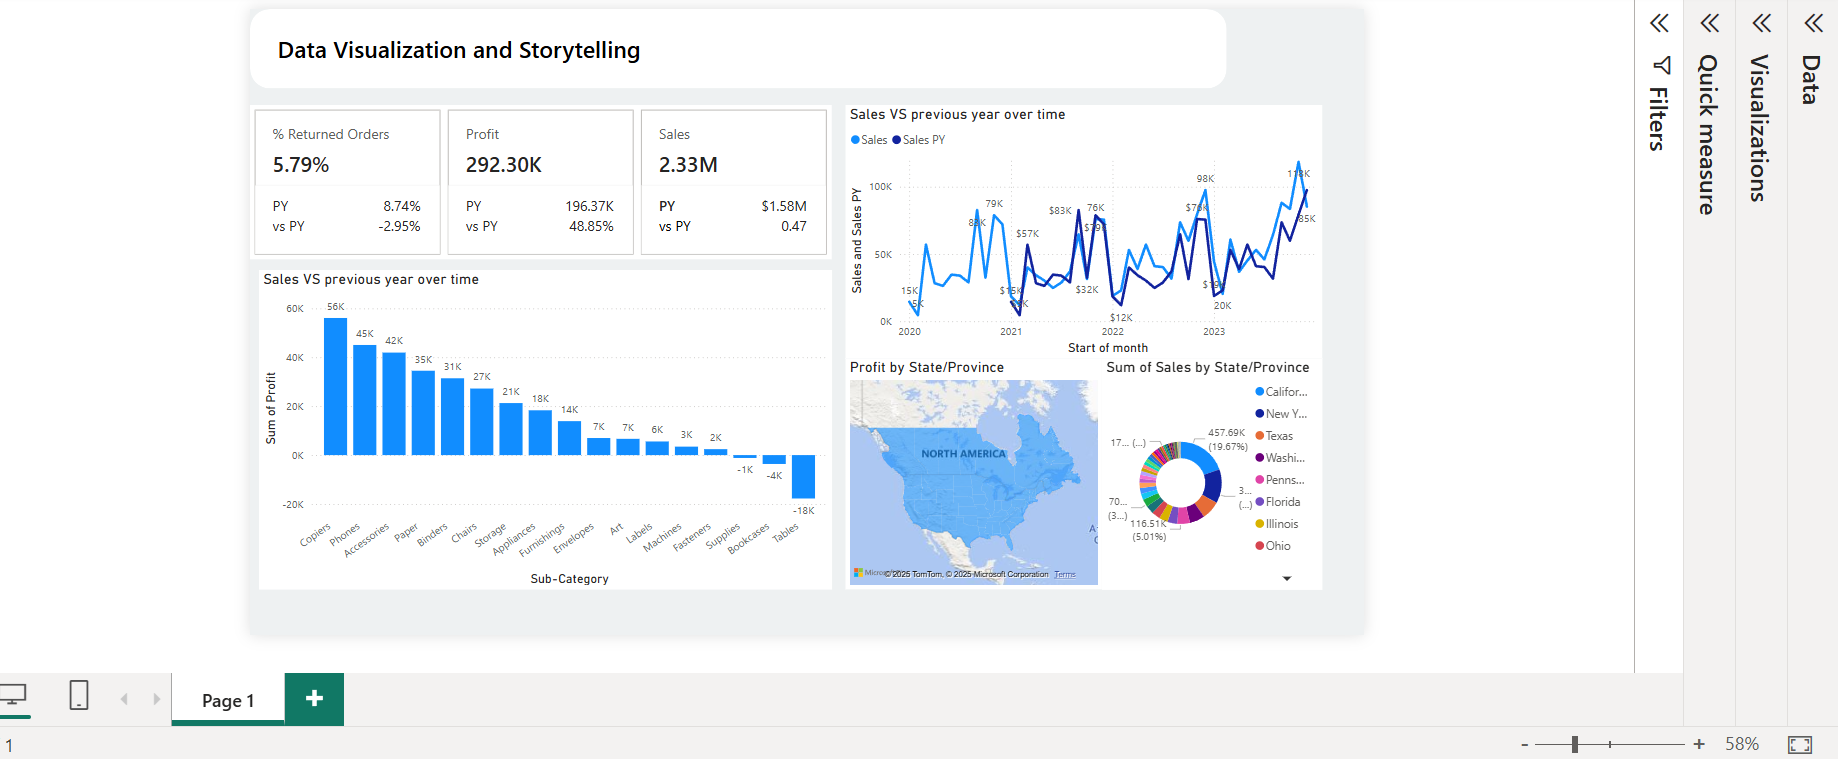

Layout of this report page (visuals, bound fields, positions):
{"tool":"powerbi","page":{"name":"Page 1","canvas":[1280,720],"ordinal":0},"visuals":[{"type":"cardVisual","fields":{"Data":["key measures.% Returned Orders","key measures.Profit","key measures.Sales"]},"box":[0,110.3,669,177.6],"z":0},{"type":"shape","box":[0,0,1122.4,91.4],"z":1000},{"type":"lineChart","title":"Sales VS previous year over time","fields":{"Y":["key measures.Sales","key measures.Sales PY"],"Category":["Date Table.Start of month"]},"box":[684.5,110.3,548.3,291.4],"z":2000},{"type":"clusteredColumnChart","title":"Sales VS previous year over time","fields":{"Y":["Sum(Orders.Profit)"],"Category":["Orders.Sub-Category"]},"box":[10.3,300,658.6,367.2],"z":3000},{"type":"filledMap","title":" Profit by State/Province","fields":{"Category":["Orders.State/Province"]},"box":[684.5,401.7,294.8,265.5],"z":3001},{"type":"donutChart","fields":{"Y":["Sum(Orders.Sales)"],"Category":["Orders.State/Province"]},"box":[979,402,253,266],"z":3002}]}

Visuals, with their boxes on the page's 1280x720 design canvas (x1, y1, x2, y2). These are canvas units, not pixel positions in the 1838x759 screenshot, which may show the page scaled, cropped or inside an application window:
cardVisual - key measures.% Returned Orders x key measures.Profit: (left=0, top=110, right=669, bottom=288)
shape: (left=0, top=0, right=1122, bottom=91)
"Sales VS previous year over time" lineChart: (left=684, top=110, right=1233, bottom=402)
"Sales VS previous year over time" clusteredColumnChart: (left=10, top=300, right=669, bottom=667)
" Profit by State/Province" filledMap: (left=684, top=402, right=979, bottom=667)
donutChart - Sum(Orders.Sales) x Orders.State/Province: (left=979, top=402, right=1232, bottom=668)
